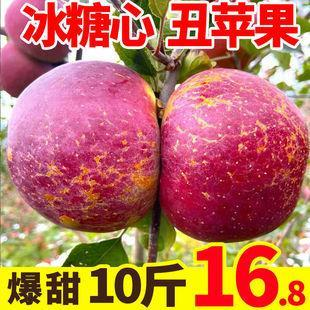apple: (3, 61, 163, 240), (158, 72, 306, 241)
